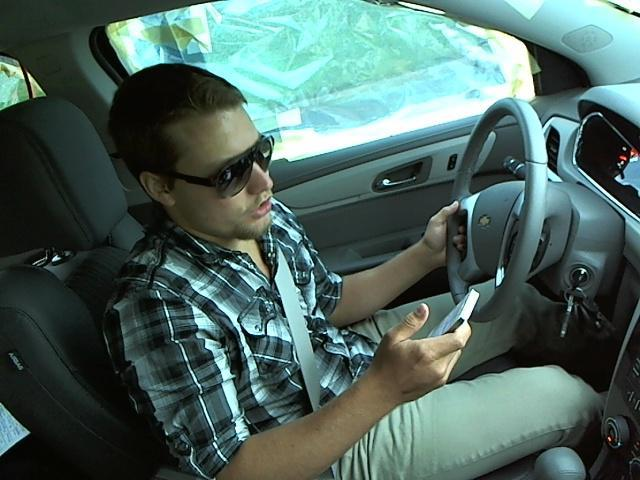PhoneUse: (416, 290, 492, 349)
